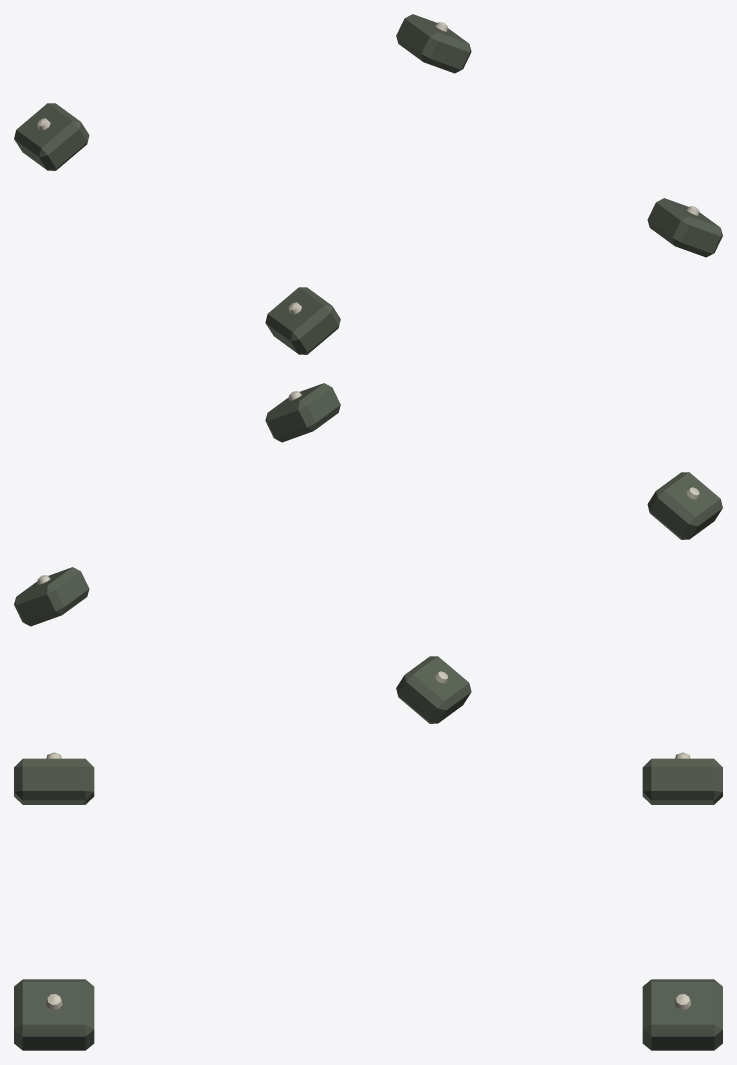
Rendered from tz28v_sensors.obj.
3 views of the same model, one above another, from view 1: azimuth 30°, elevation 25°; view 2: azimuth 150°, elevation 25°; view 3: azimuth 270°, elevation 25° (orthographic). The views are drawn at different scales.
Parts seen in each view (by area): view 1: tz28v_sensors; view 2: tz28v_sensors; view 3: tz28v_sensors.
Part boxes in pixels (<box>): tz28v_sensors: <box>14,14,722,354</box>; tz28v_sensors: <box>14,383,722,723</box>; tz28v_sensors: <box>14,752,722,1050</box>.
Bounding box in the file's own units: 3.58 × 0.3578 × 4.06.
